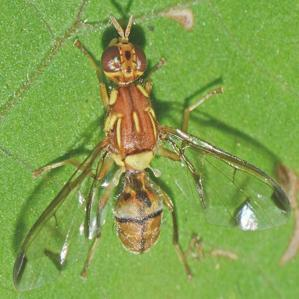melon fly: (6, 4, 294, 296)
